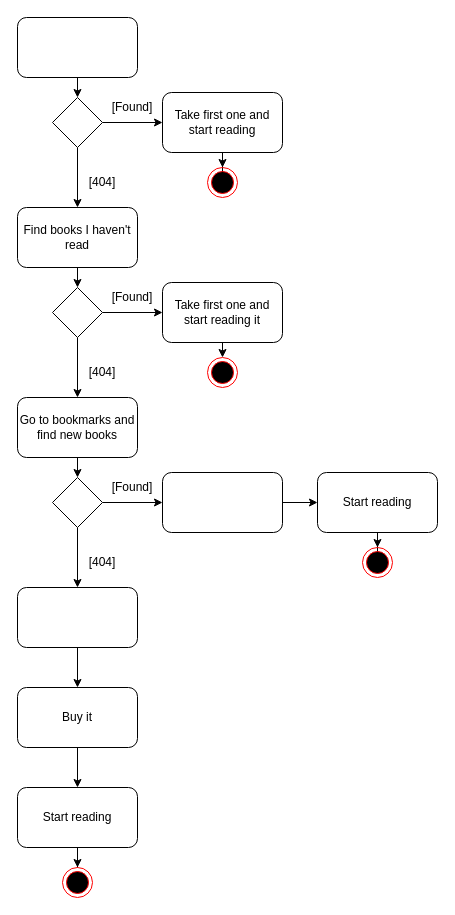
This 455x915 diagram has some shape labels left out. The centre of each missing label's shape, as x and y in pixels:
"Find unfinished books" goes at pixel 77 47.
"Go to Amazon and find a book" goes at pixel 77 617.
"Take first one and buy it" goes at pixel 222 502.
